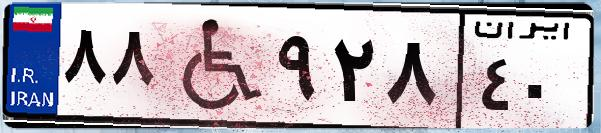0: (525, 38, 570, 115)
2: (330, 28, 385, 110)
4: (475, 38, 525, 113)
8: (385, 28, 445, 110), (57, 26, 110, 100), (110, 28, 158, 98)
9: (270, 28, 330, 110)
ژ (معلولین و جانبازان): (158, 12, 270, 120)
